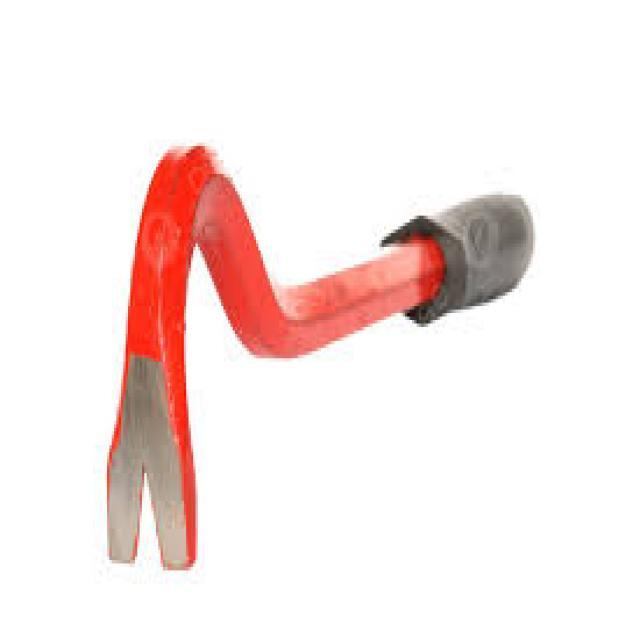Linggis: (92, 126, 539, 584)
